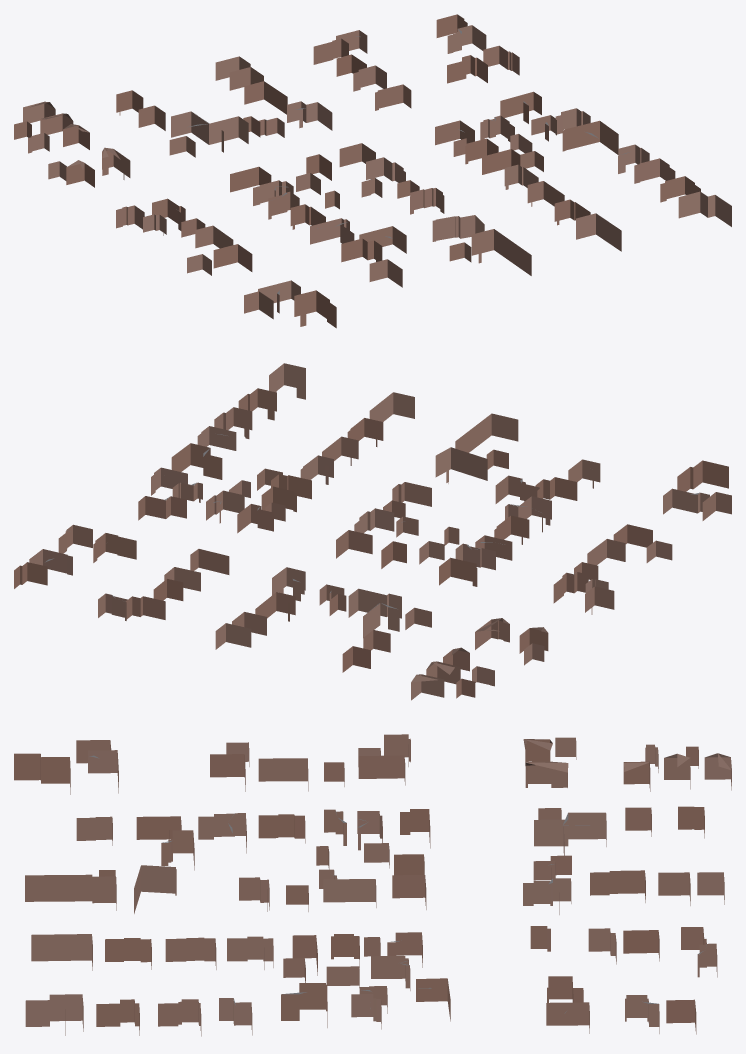
The model's file is c_1644_17830_buildings_residential.glb.
3 renders of one model, top to bottom at view 1: azimuth 30°, elevation 25°; view 2: azimuth 150°, elevation 25°; view 3: azimuth 270°, elevation 25°, orthographic. The views are drawn at different scales.
Visible parts, largest first — view 1: geometry_0; view 2: geometry_0; view 3: geometry_0.
Part boxes in pixels (x1=…): geometry_0: x1=14, y1=14, x2=731, y2=328; geometry_0: x1=14, y1=363, x2=731, y2=700; geometry_0: x1=14, y1=734, x2=731, y2=1036.
Bounding box in the file's own units: 251 × 11.08 × 269.
